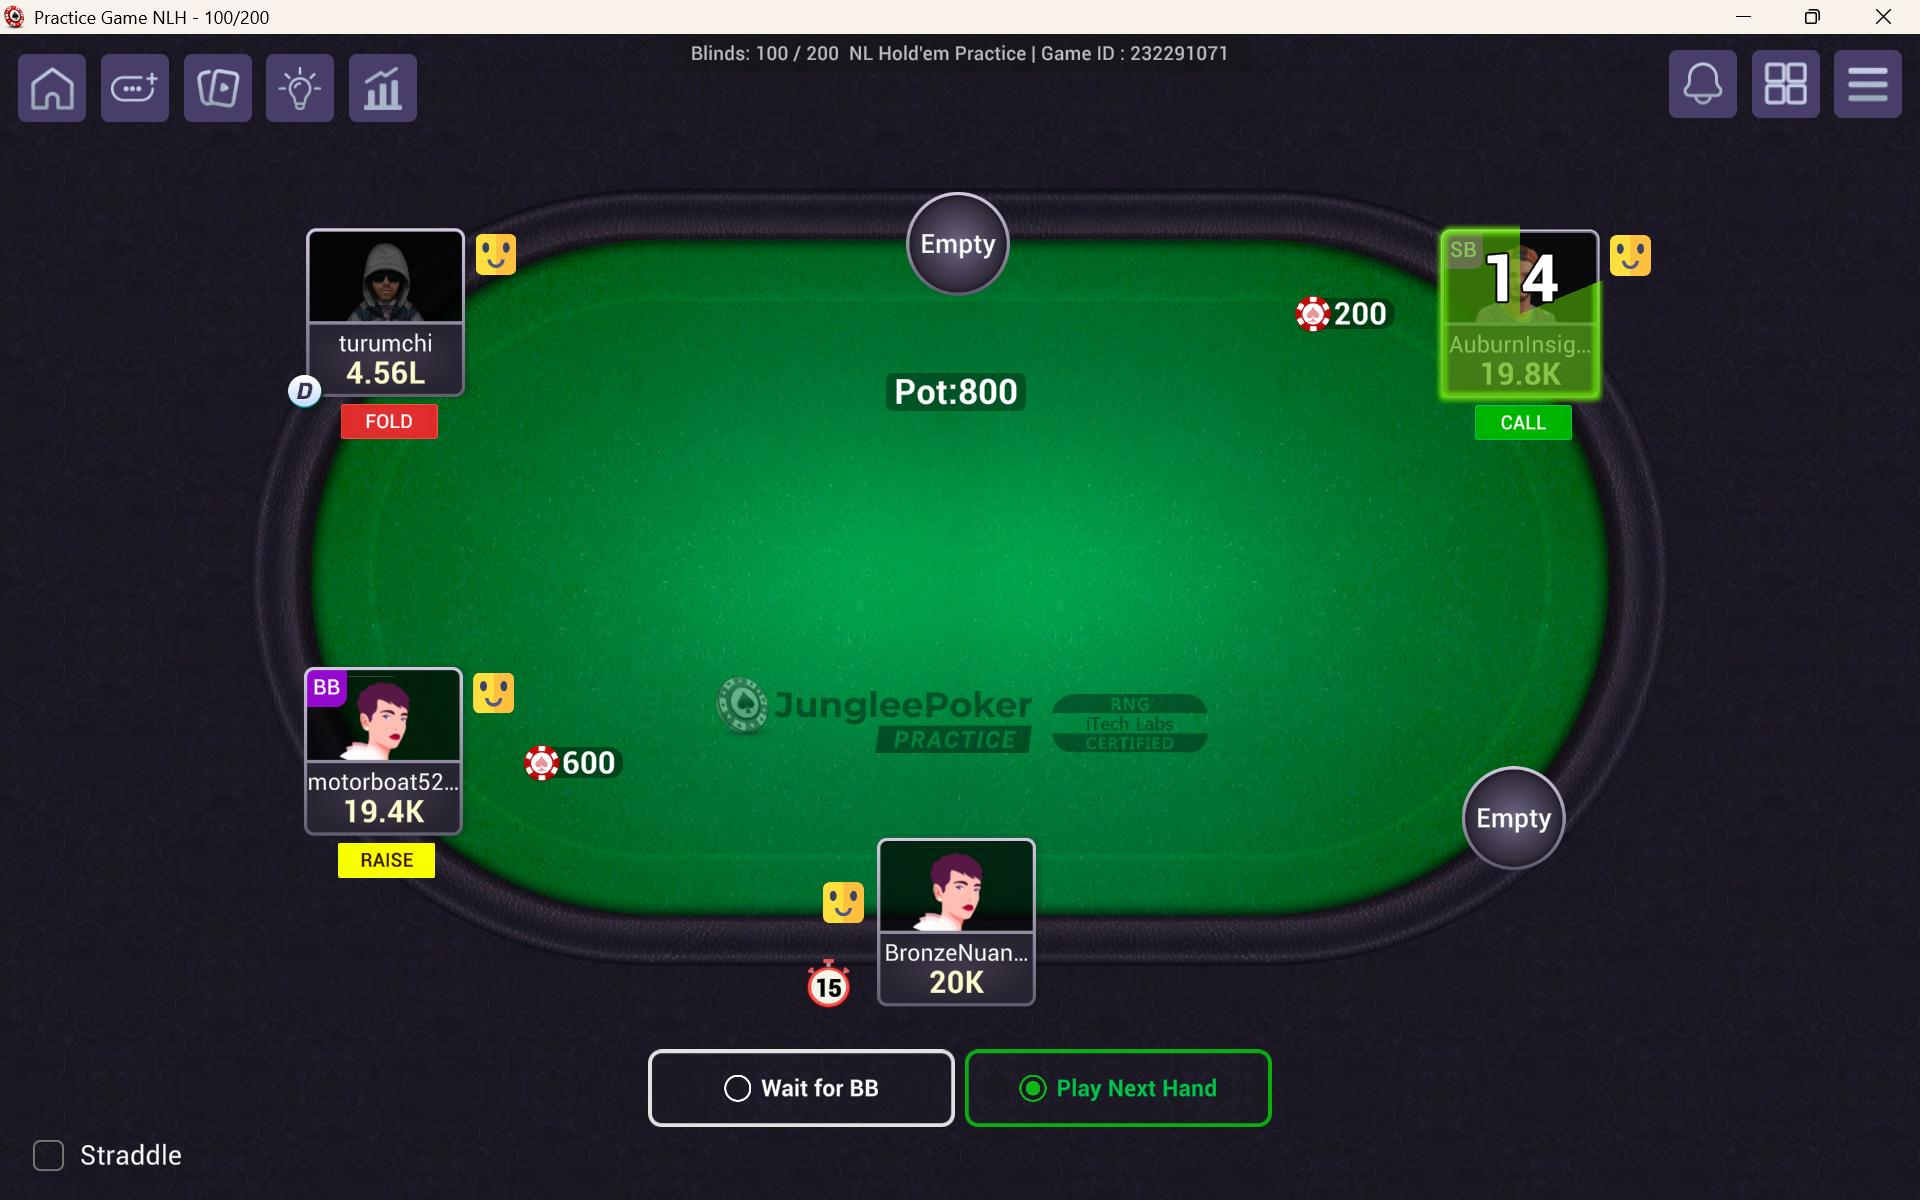game_id: (1035, 37, 1261, 77)
my_stack: (903, 965, 1020, 1002)
position_BB: (310, 671, 347, 708)
total_pot: (885, 368, 1035, 415)
villian1_bet: (520, 740, 630, 795)
villian1_name: (307, 763, 463, 795)
villian1_stack: (325, 792, 448, 829)
villian2_name: (321, 333, 460, 358)
villian2_stack: (340, 355, 435, 387)
villian4_bet: (1287, 294, 1403, 333)
